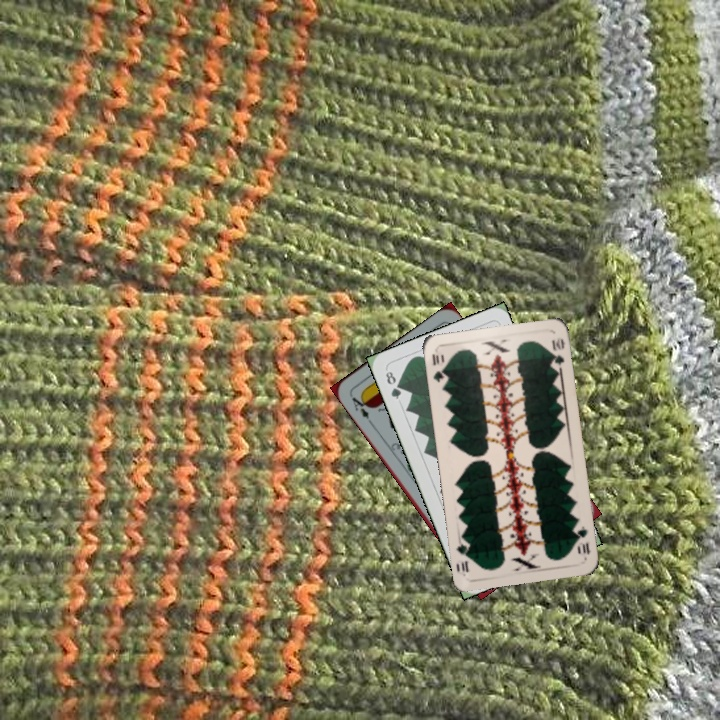EA: (346, 391, 375, 427)
G10: (571, 522, 593, 557), (428, 350, 448, 385)
G8: (381, 367, 404, 402)
